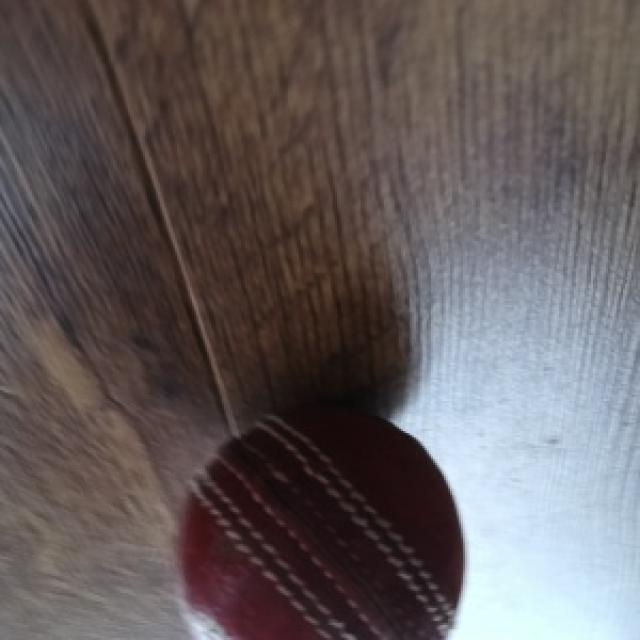ball: (173, 407, 467, 640)
